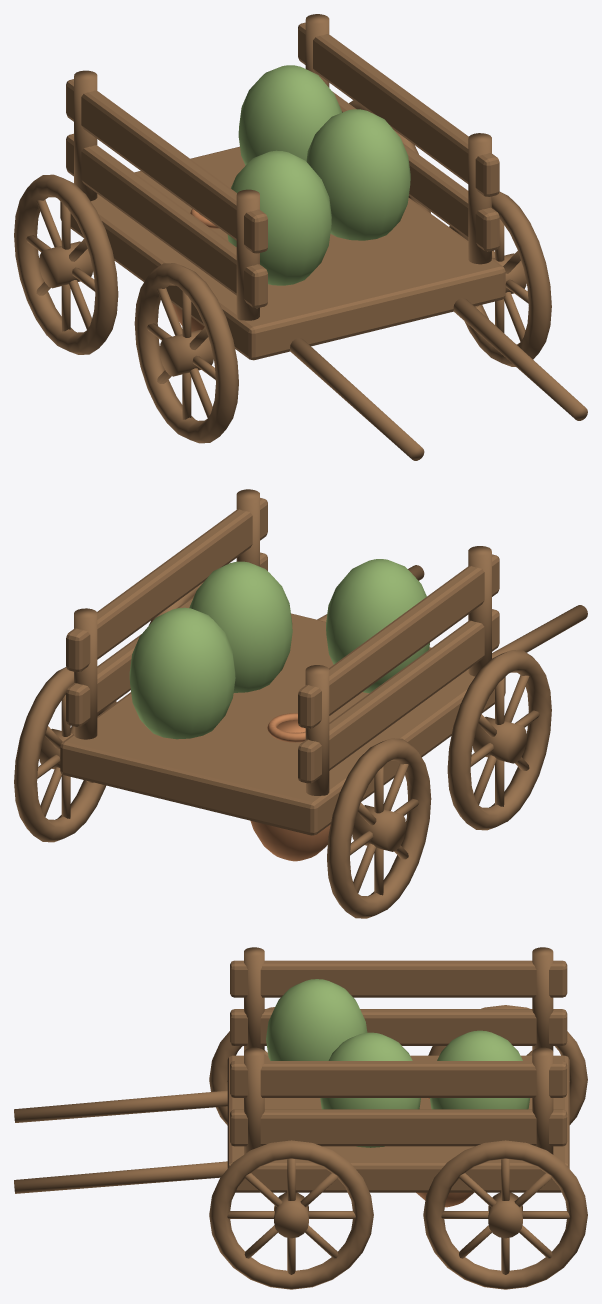
File: cart.glb
3 views of the same model, one above another, from view 1: azimuth 30°, elevation 25°; view 2: azimuth 150°, elevation 25°; view 3: azimuth 270°, elevation 25° (orthographic). The views are drawn at different scales.
Visible parts, largest first — view 1: cart; view 2: cart; view 3: cart.
Part boxes in pixels (left/top/right/bottom): cart: left=14, top=14, right=587, bottom=460; cart: left=14, top=489, right=587, bottom=918; cart: left=14, top=947, right=587, bottom=1289.
Size of the model in its own units: 1.53 by 1.04 by 2.47.
